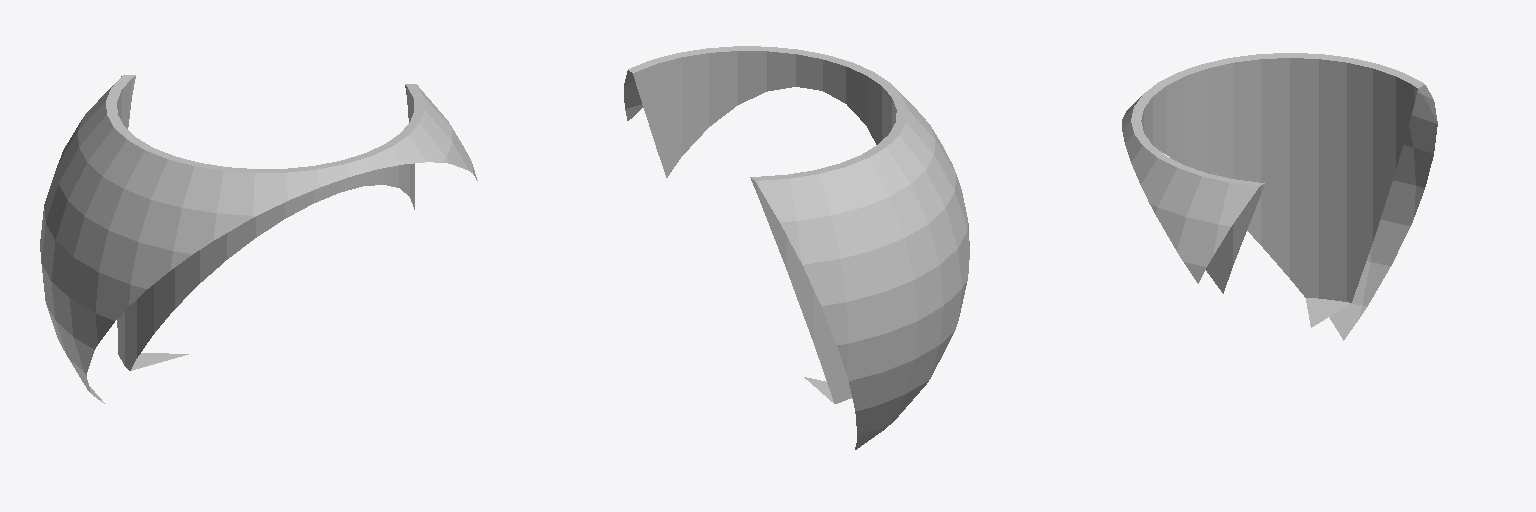
Rendered from bowlpart1.obj.
3 renders of one model, left to right at view 1: azimuth 30°, elevation 25°; view 2: azimuth 150°, elevation 25°; view 3: azimuth 270°, elevation 25°, orthographic.
Parts seen in each view (by area): view 1: Sphere.001; view 2: Sphere.001; view 3: Sphere.001.
Part boxes in pixels (bbox=[...]): Sphere.001: bbox=[40, 75, 477, 403]; Sphere.001: bbox=[624, 46, 969, 449]; Sphere.001: bbox=[1122, 53, 1437, 340].
Bounding box in the file's own units: 9.18 × 6.92 × 6.93.